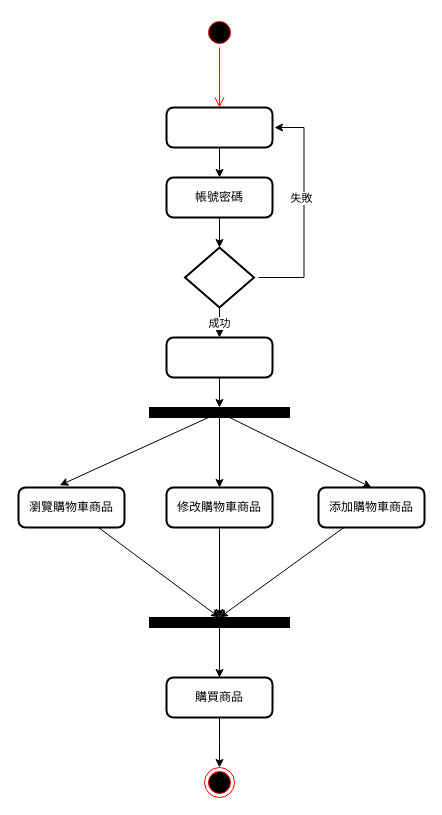
This 442x815 diagram has some shape labels left out. Here are the shapes that lost their labels. From the top down, the box of each, then its label:
(165, 106, 273, 148): 用戶登入
(165, 336, 273, 378): 購物車頁面
